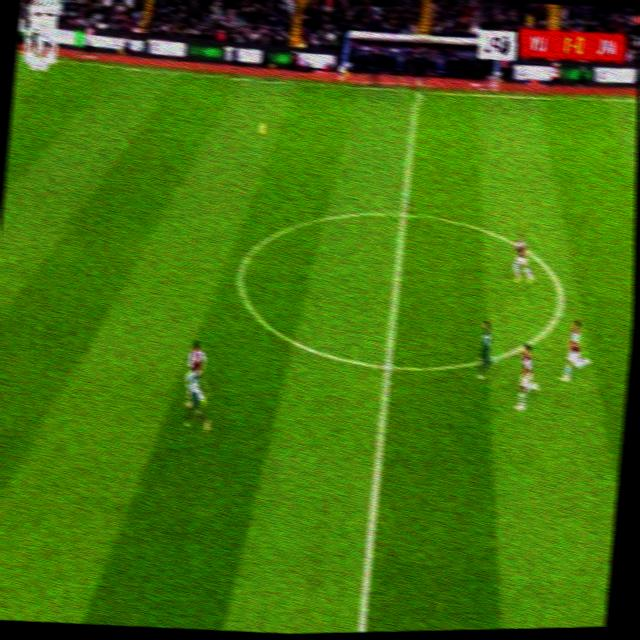halfcircle_bottom: (374, 344, 407, 386)
halfcircle_top: (390, 194, 420, 232)
midline_top_intersection: (405, 76, 429, 104)
